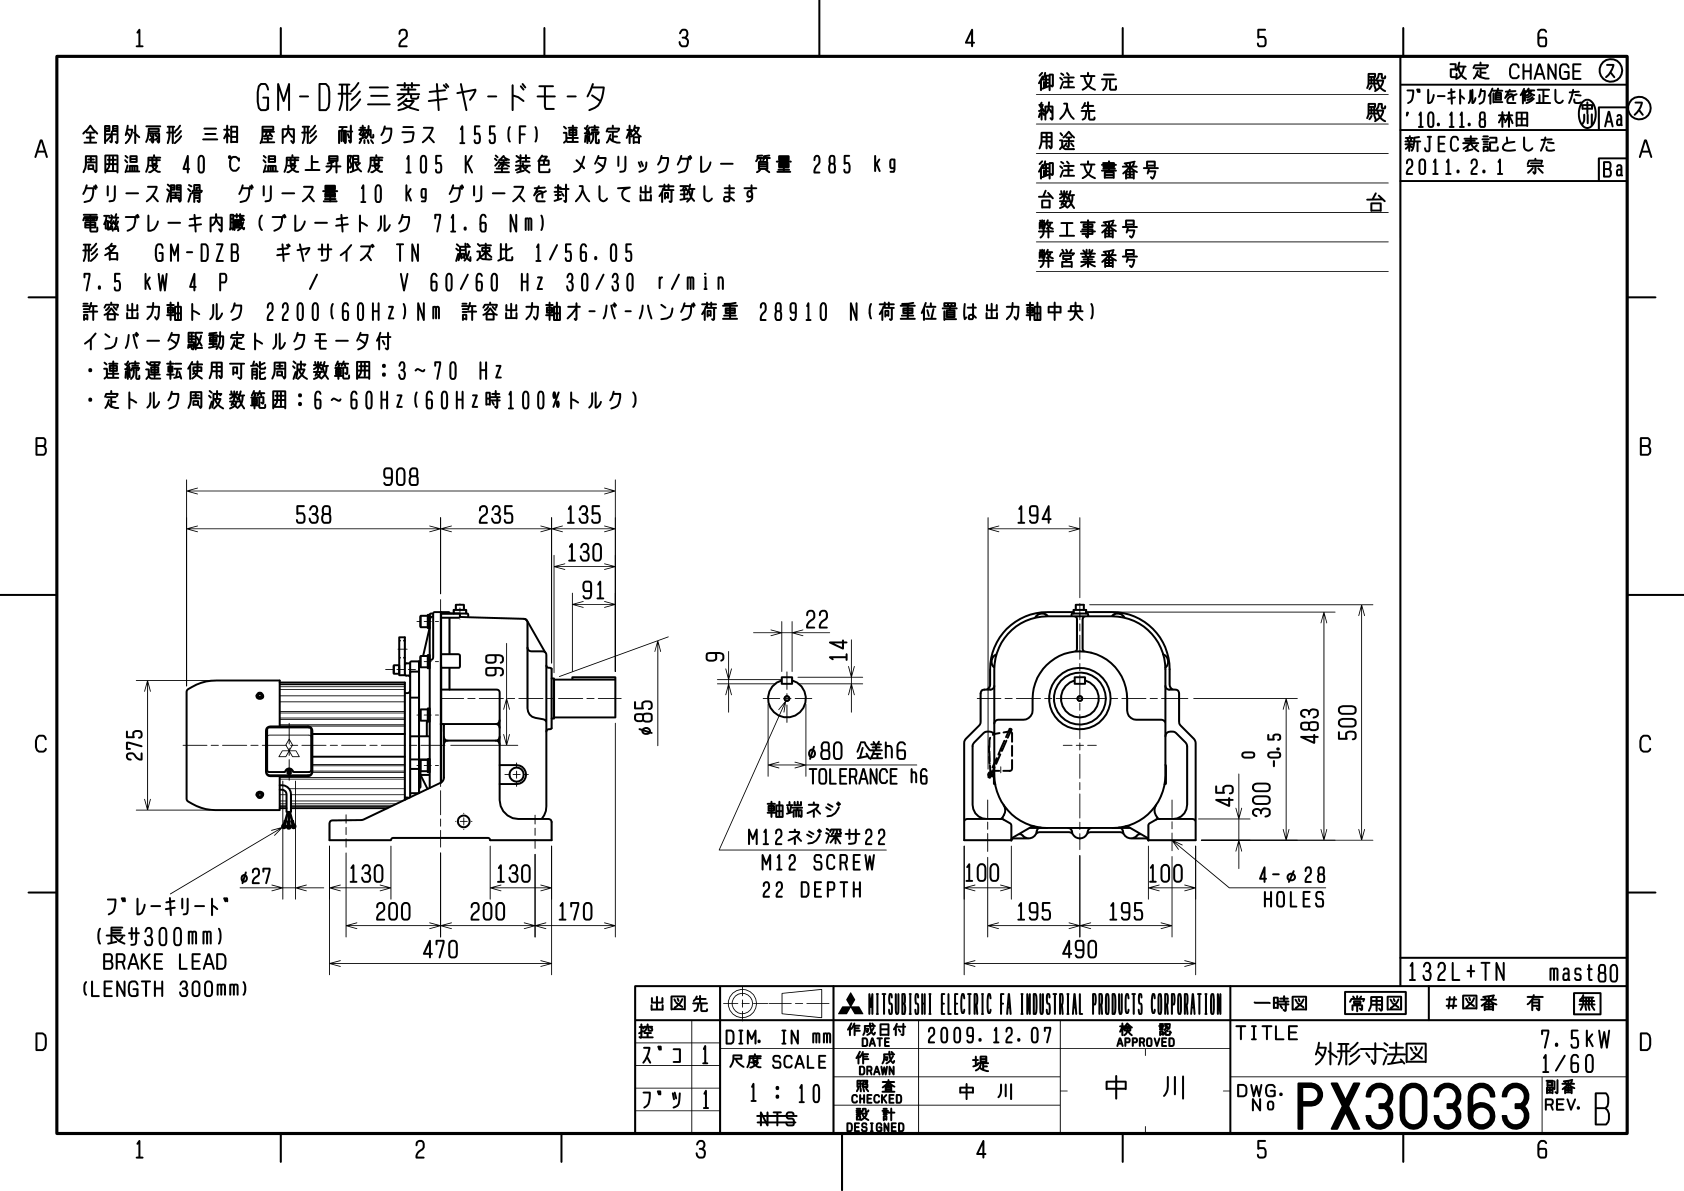GM_D_インバータ屋内_三相_脚: (67, 429, 1389, 973)
